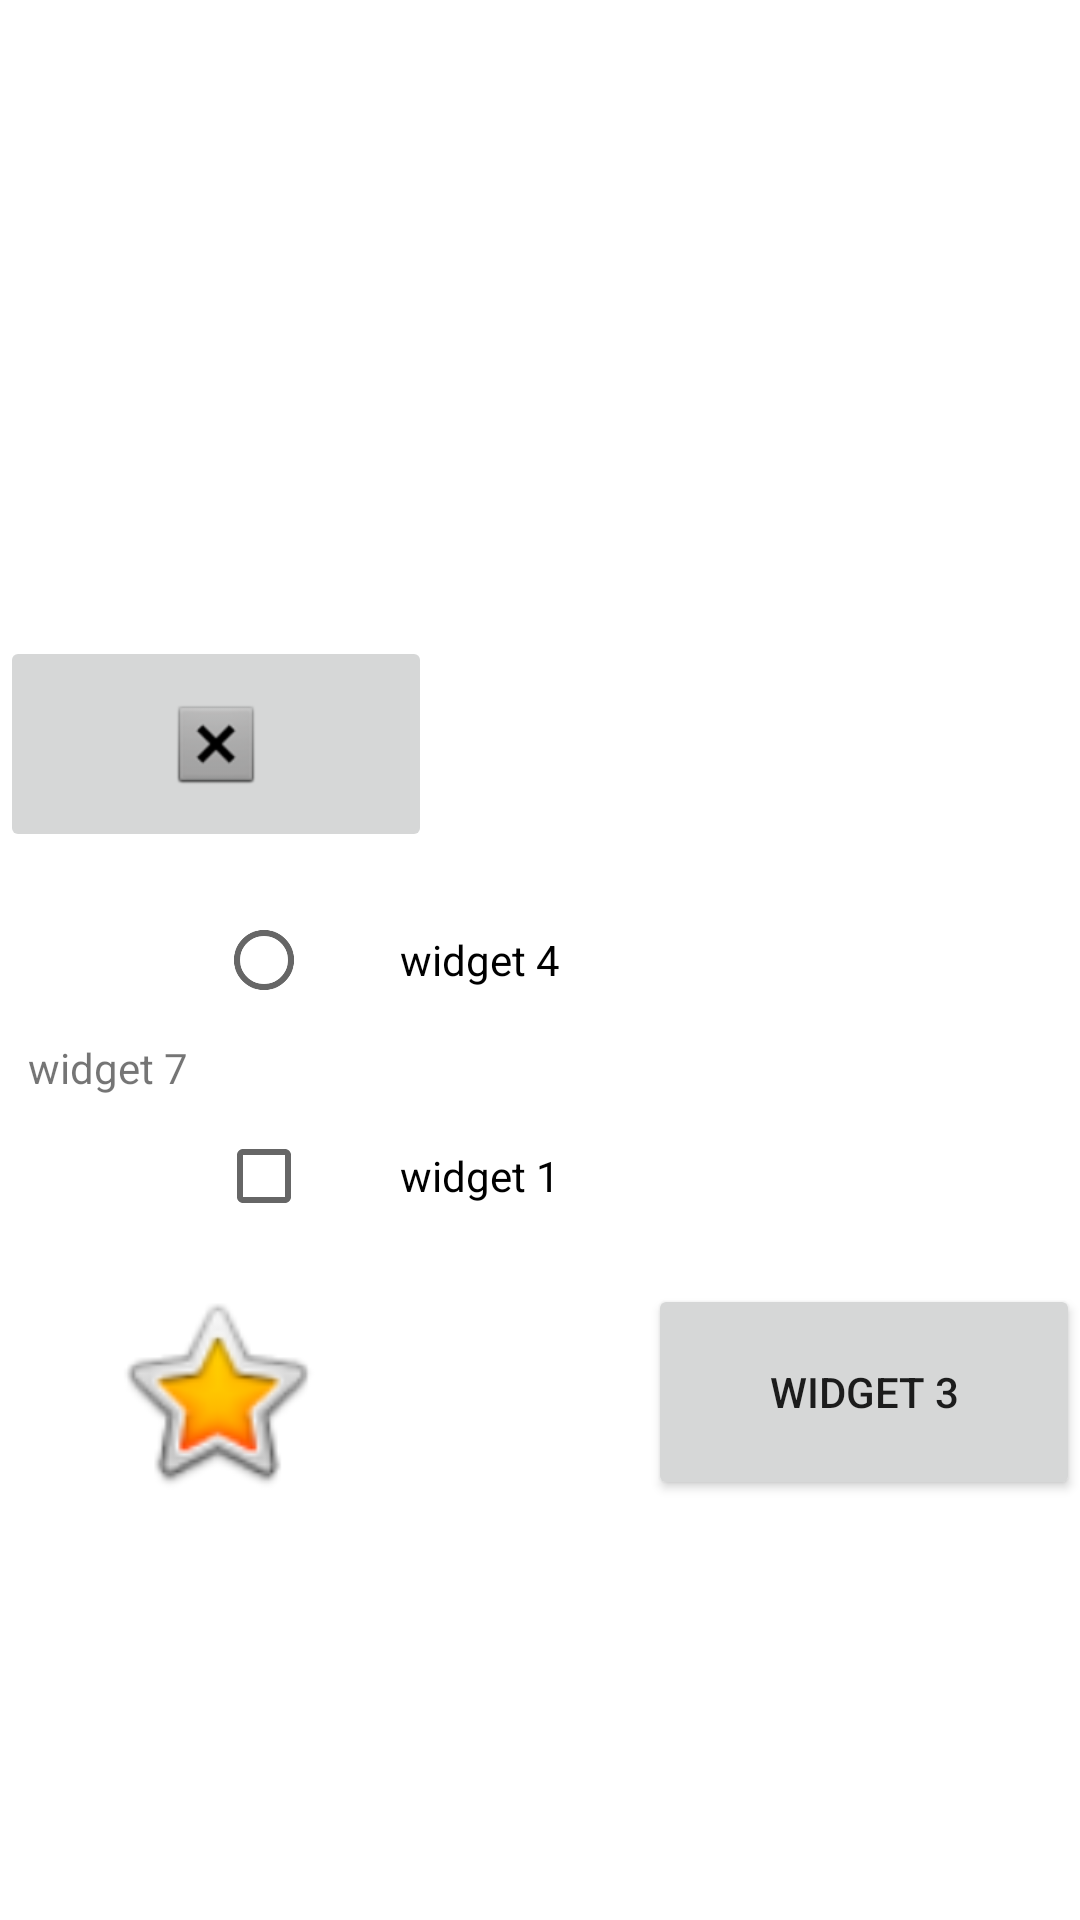

Named icons in this screenshot (1080 x 1920) and their bounding boxes, (x1, y1, x2, y2):
star: (127, 1306, 308, 1482)
